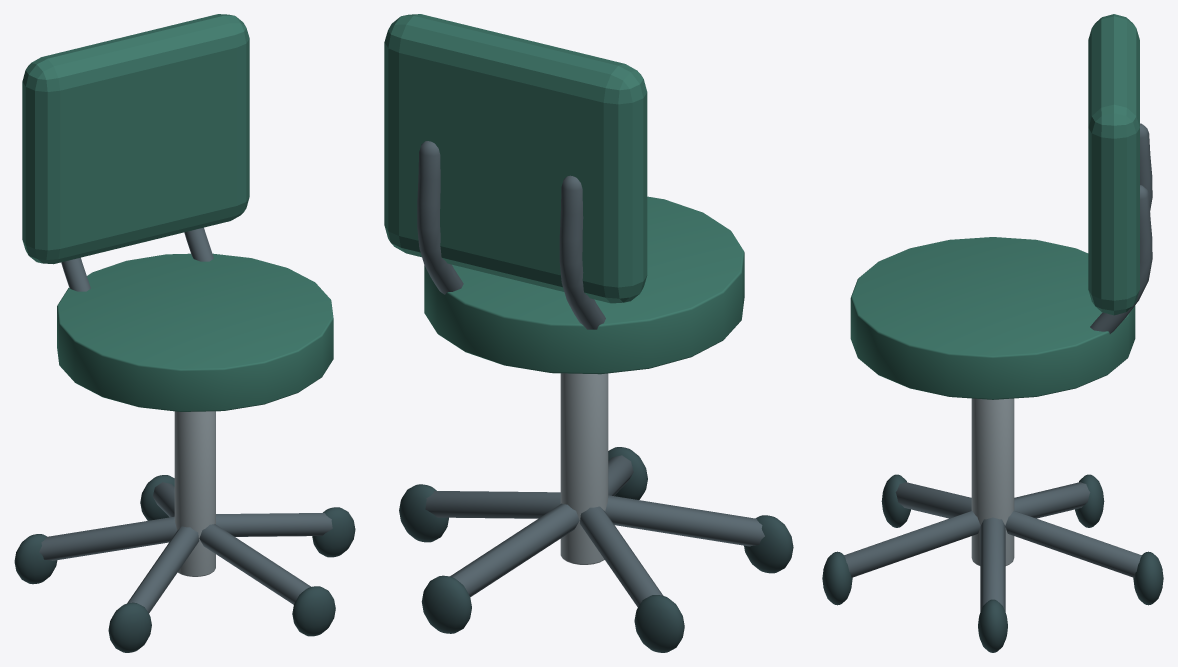
File: office_chair.glb
The picture shows the model from 3 angles, left to right: view 1: azimuth 30°, elevation 25°; view 2: azimuth 150°, elevation 25°; view 3: azimuth 270°, elevation 25°; orthographic projection. The views are drawn at different scales.
Visible parts, largest first — view 1: Curved_back, Seat, Lift, Caster_arm.003, Caster_arm.001, Caster_arm, Caster_arm.002, Caster.001, Caster.002, Caster.003, Caster, Caster.004 (+3 smaller); view 2: Curved_back, Seat, Lift, Caster_arm.002, Caster_arm.004, Back_support, Back_support.001, Caster_arm, Caster_arm.003, Caster.004, Caster.003, Caster.002 (+3 smaller); view 3: Seat, Curved_back, Lift, Caster_arm.001, Caster_arm.004, Caster_arm, Caster_arm.002, Caster_arm.003, Back_support.001, Caster, Caster.001, Caster.004 (+3 smaller).
Boxes of the visible parts, box(x1,y1,x2,y2) form: Curved_back: box(22, 14, 249, 264); Seat: box(57, 253, 333, 411); Lift: box(174, 411, 215, 576); Caster_arm.003: box(39, 516, 177, 560); Caster_arm.001: box(199, 524, 311, 604); Caster_arm: box(216, 513, 332, 536); Caster_arm.002: box(127, 526, 199, 613); Caster.001: box(292, 586, 335, 636); Caster.002: box(108, 602, 151, 652); Caster.003: box(14, 534, 57, 584); Caster: box(312, 507, 355, 557); Caster.004: box(140, 475, 174, 520); Curved_back: box(384, 14, 647, 303); Seat: box(424, 196, 744, 374); Lift: box(560, 373, 608, 564); Caster_arm.002: box(605, 495, 764, 546); Caster_arm.004: box(450, 503, 579, 596); Back_support: box(559, 175, 605, 329); Back_support.001: box(417, 141, 463, 294); Caster_arm: box(425, 491, 560, 518); Caster_arm.003: box(579, 506, 663, 606); Caster.004: box(421, 575, 471, 633); Caster.003: box(634, 595, 684, 652); Caster.002: box(744, 515, 793, 573); Seat: box(850, 237, 1135, 399); Curved_back: box(1088, 14, 1139, 315); Lift: box(971, 398, 1014, 565); Caster_arm.001: box(844, 511, 980, 577); Caster_arm.004: box(1005, 511, 1141, 577); Caster_arm: box(980, 517, 1005, 611); Caster_arm.002: box(895, 482, 971, 518); Caster_arm.003: box(1014, 482, 1090, 518); Back_support.001: box(1090, 185, 1152, 333); Caster: box(978, 599, 1007, 652); Caster.001: box(822, 551, 852, 605); Caster.004: box(1133, 551, 1163, 605).
Size of the model in its own units: 0.5684 by 0.95 by 0.5636.
